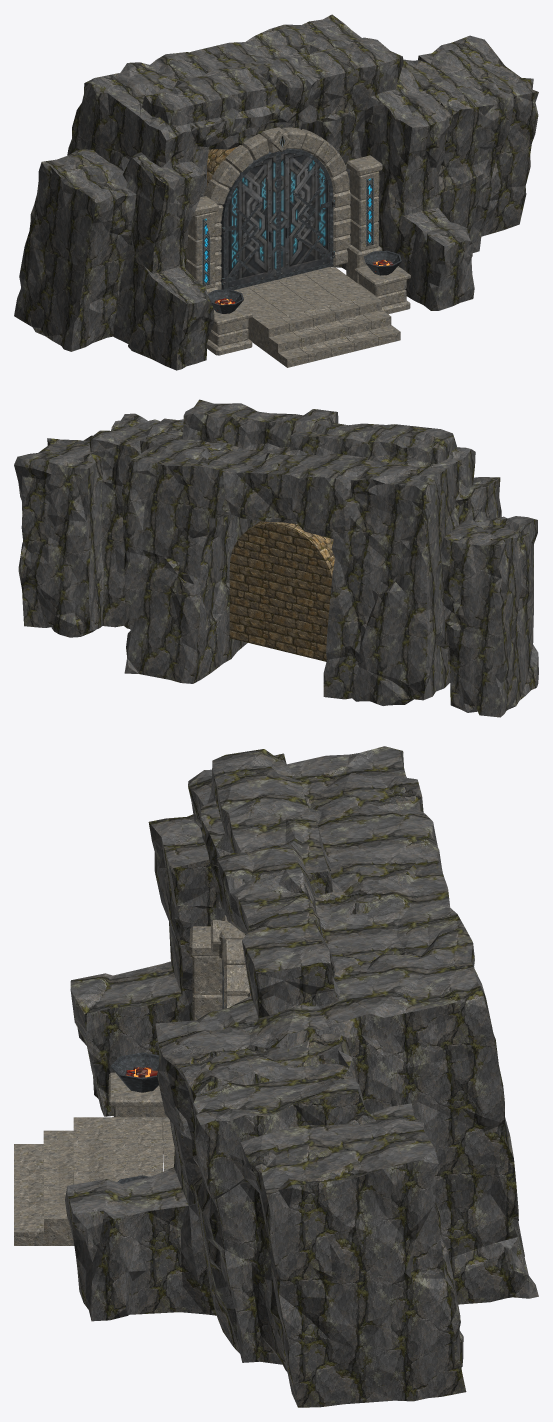
Rendered from dwarf-gate-v4.glb.
3 views of the same model, one above another, from view 1: azimuth 30°, elevation 25°; view 2: azimuth 150°, elevation 25°; view 3: azimuth 270°, elevation 25° (orthographic). The views are drawn at different scales.
Parts seen in each view (by area): view 1: rock_mass, door_r, door_l, landing_00, pedestal_r_slab, step_2_0, brazier_r, brazier_l, step_1_0, landing_31, landing_30, pillar_r_shaft0 (+30 smaller); view 2: rock_mass, tunnel; view 3: rock_mass, landing_10, landing_00, brazier_l, pillar_l_shaft2, pedestal_l_slab, step_1_4, landing_20, step_0_4, arch_03.
Boxes of the visible parts, x1,y1,x2,y2 form: rock_mass: (14,14,538,370); door_r: (276,148,334,279); door_l: (220,151,277,290); landing_00: (245,302,286,346); pedestal_r_slab: (354,265,410,287); step_2_0: (259,317,289,353); brazier_r: (364,250,401,275); brazier_l: (208,289,243,313); step_1_0: (268,331,301,360); landing_31: (305,267,353,288); landing_30: (324,281,372,301); pillar_r_shaft0: (350,219,378,251); rock_mass: (14,399,538,717); tunnel: (229,521,334,661); rock_mass: (65,746,538,1407); landing_10: (103,1139,162,1162); landing_00: (103,1117,162,1139); brazier_l: (111,1052,159,1092); pillar_l_shaft2: (192,956,222,994); pedestal_l_slab: (108,1072,163,1106); step_1_4: (44,1204,73,1245); landing_20: (103,1161,162,1181); step_0_4: (14,1215,43,1245); arch_03: (223,964,249,997).
Bounding box in the file's own units: 12.07 × 5.44 × 7.04.
10 materials, 9 textured.
